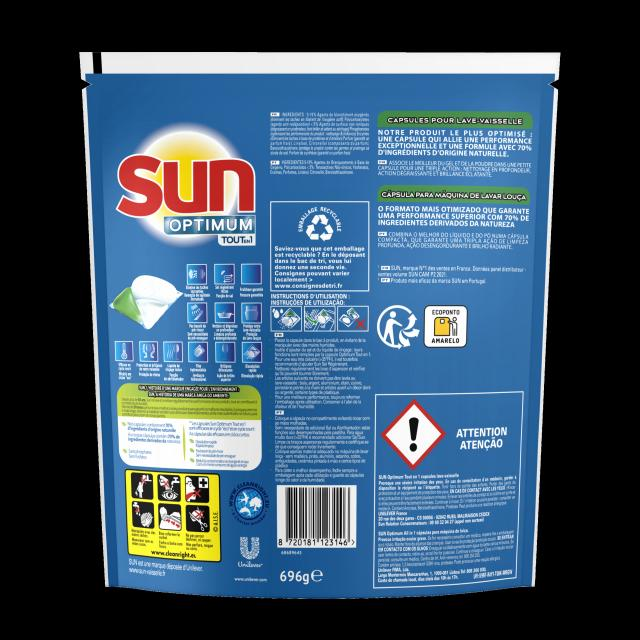GHS_Symbol_EXCLAMATION_MARK: (382, 399, 445, 471)
